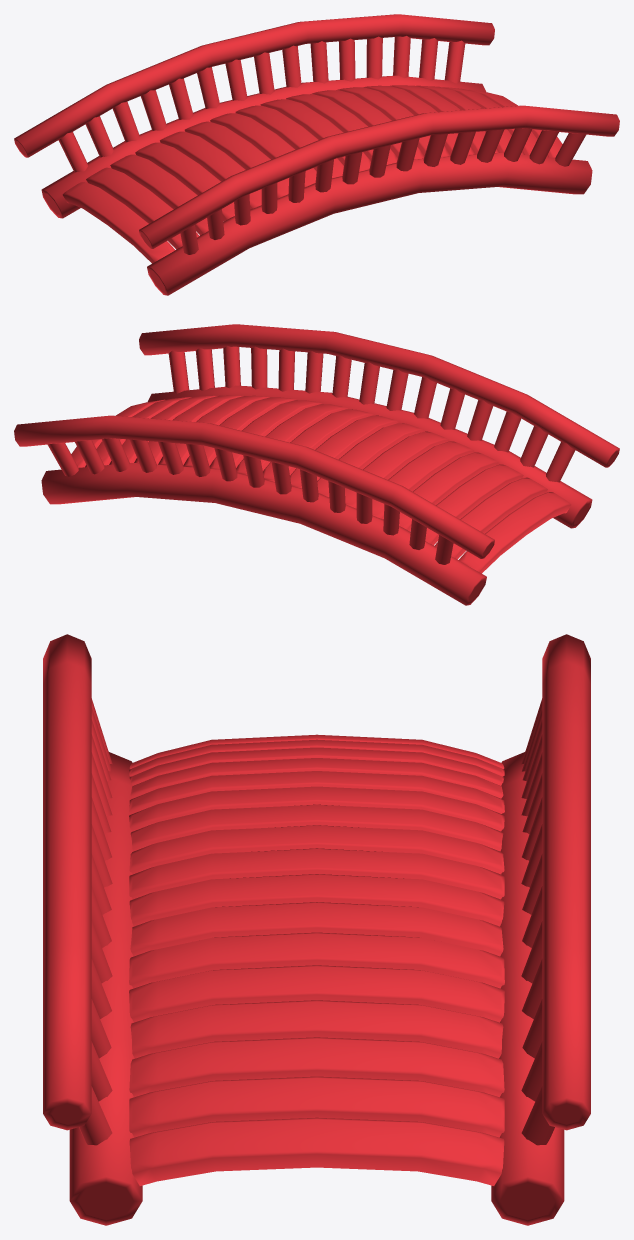
Rendered from bridge_marzi.fbx.
3 views of the same model, one above another, from view 1: azimuth 30°, elevation 25°; view 2: azimuth 150°, elevation 25°; view 3: azimuth 270°, elevation 25° (orthographic). The views are drawn at different scales.
Visible parts, largest first — view 1: bridge_marzi; view 2: bridge_marzi; view 3: bridge_marzi.
Part boxes in pixels (x1,y1,x2,y2): bridge_marzi: (14,14,619,295); bridge_marzi: (14,324,619,605); bridge_marzi: (43,634,590,1225).
Size of the model in its own units: 2013 by 513 by 1005.
